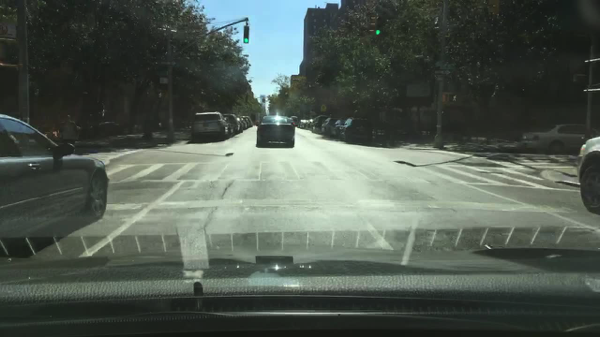car: (0, 114, 110, 250), (519, 124, 599, 155), (577, 135, 599, 213), (255, 115, 295, 147), (191, 112, 227, 142), (342, 117, 374, 146), (320, 118, 338, 137), (331, 119, 345, 142), (227, 114, 241, 136), (313, 115, 325, 135), (224, 116, 235, 137), (290, 115, 298, 129), (242, 118, 250, 129), (238, 118, 244, 132), (306, 119, 312, 131), (248, 117, 254, 127), (302, 120, 307, 130), (298, 118, 302, 130), (254, 119, 260, 126)
person: (59, 114, 80, 154)
traffic light: (375, 16, 383, 37), (443, 93, 458, 102), (369, 17, 376, 35), (243, 25, 249, 44), (158, 92, 166, 100)
traffic sign: (157, 60, 179, 67), (438, 62, 459, 69), (434, 69, 453, 76), (154, 70, 170, 76), (319, 104, 327, 112), (161, 77, 169, 83)
